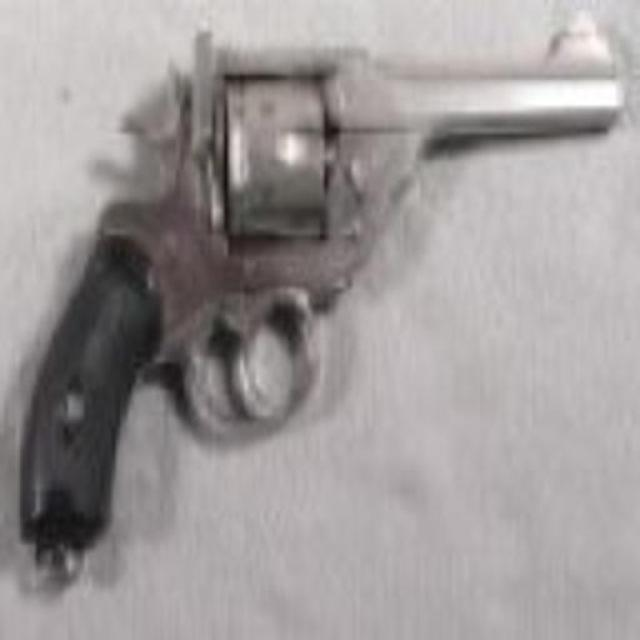pistol: (20, 15, 620, 549)
